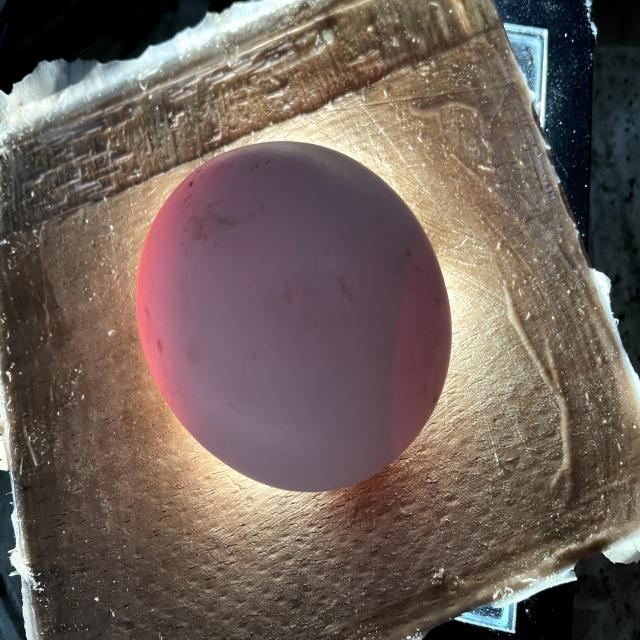Eggs: (134, 140, 453, 492)
